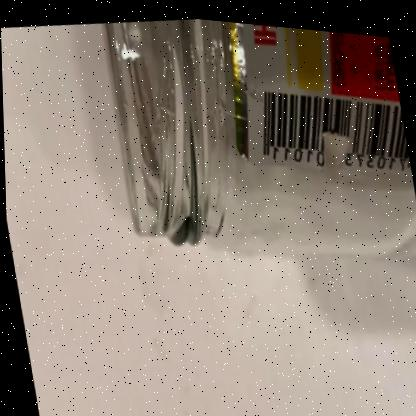Glass: (105, 15, 416, 248)
